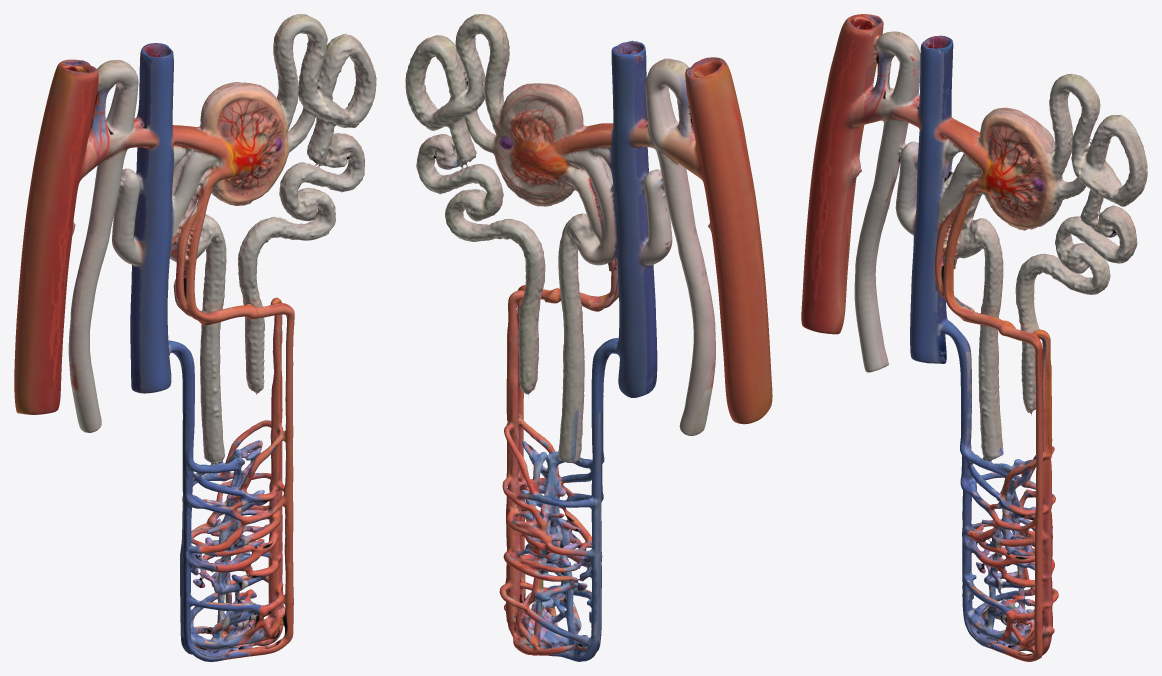
The model's file is nephron_unity.glb.
The picture shows the model from 3 angles, left to right: view 1: azimuth 30°, elevation 25°; view 2: azimuth 150°, elevation 25°; view 3: azimuth 330°, elevation 25°; orthographic projection. The views are drawn at different scales.
Visible parts, largest first — view 1: Object_4, Object_5, Object_6, Object_7; view 2: Object_6, Object_5, Object_4, Object_7; view 3: Object_4, Object_5, Object_6, Object_7.
Part boxes in pixels (left/top/right/bottom): Object_4: left=14, top=49, right=350, bottom=660; Object_5: left=21, top=14, right=376, bottom=661; Object_6: left=14, top=14, right=375, bottom=661; Object_7: left=17, top=15, right=375, bottom=661; Object_6: left=405, top=14, right=770, bottom=661; Object_5: left=405, top=14, right=769, bottom=660; Object_4: left=431, top=40, right=772, bottom=646; Object_7: left=408, top=14, right=771, bottom=647; Object_4: left=801, top=14, right=1114, bottom=661; Object_5: left=833, top=34, right=1147, bottom=652; Object_6: left=837, top=14, right=1145, bottom=653; Object_7: left=833, top=20, right=1146, bottom=652.
Size of the model in its own units: 1.19 by 1.98 by 0.1915.
1 material, 1 textured.
